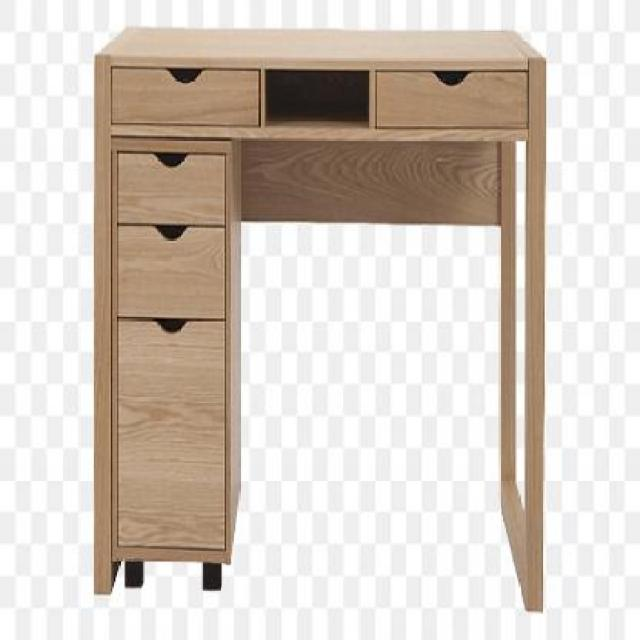table: (94, 24, 540, 611)
